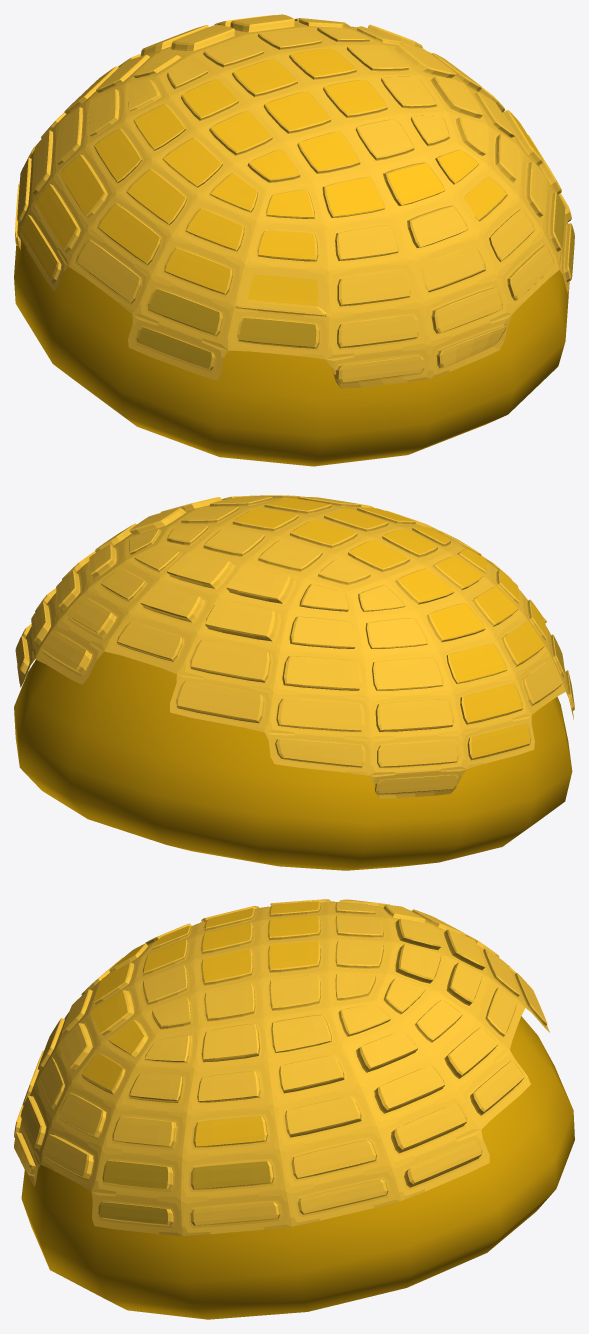
Rendered from Bread02.fbx.
The picture shows the model from 3 angles, top to bottom: view 1: azimuth 30°, elevation 25°; view 2: azimuth 150°, elevation 25°; view 3: azimuth 270°, elevation 25°; orthographic projection.
Visible parts, largest first — view 1: Pineapple.001; view 2: Pineapple.001; view 3: Pineapple.001.
Part boxes in pixels (x1,y1,x2,y2): Pineapple.001: (14, 14, 574, 466); Pineapple.001: (14, 495, 574, 870); Pineapple.001: (14, 899, 574, 1319).
Bounding box in the file's own units: 13.23 × 8.24 × 13.19.
